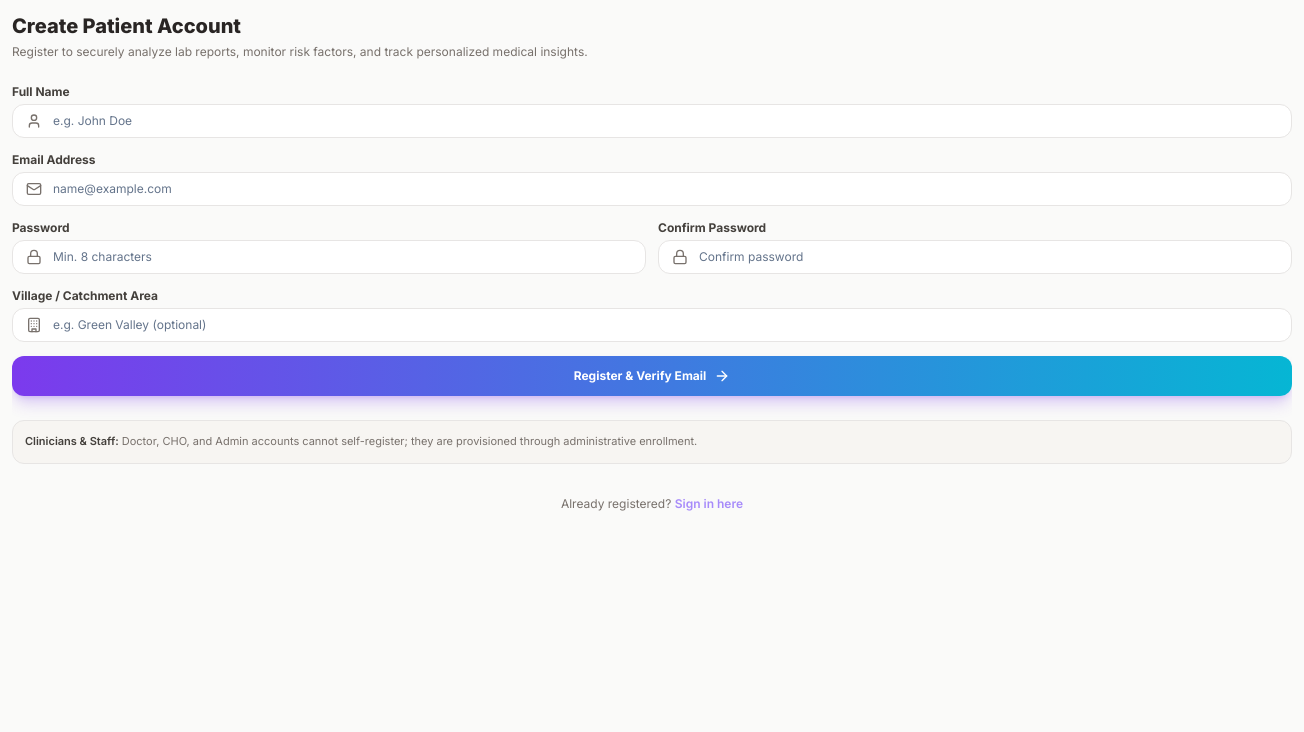
Test: Frontend Email Authentication & Password Recovery Suite › Register Component › validates password match and shows check inbox screen on successful registration
This screenshot has width=1304, height=732.
Type "Jane Doe" into the field with placeholder "e.g. John Doe". click: (652, 121)
box: x1=12 y1=104 x2=1292 y2=138
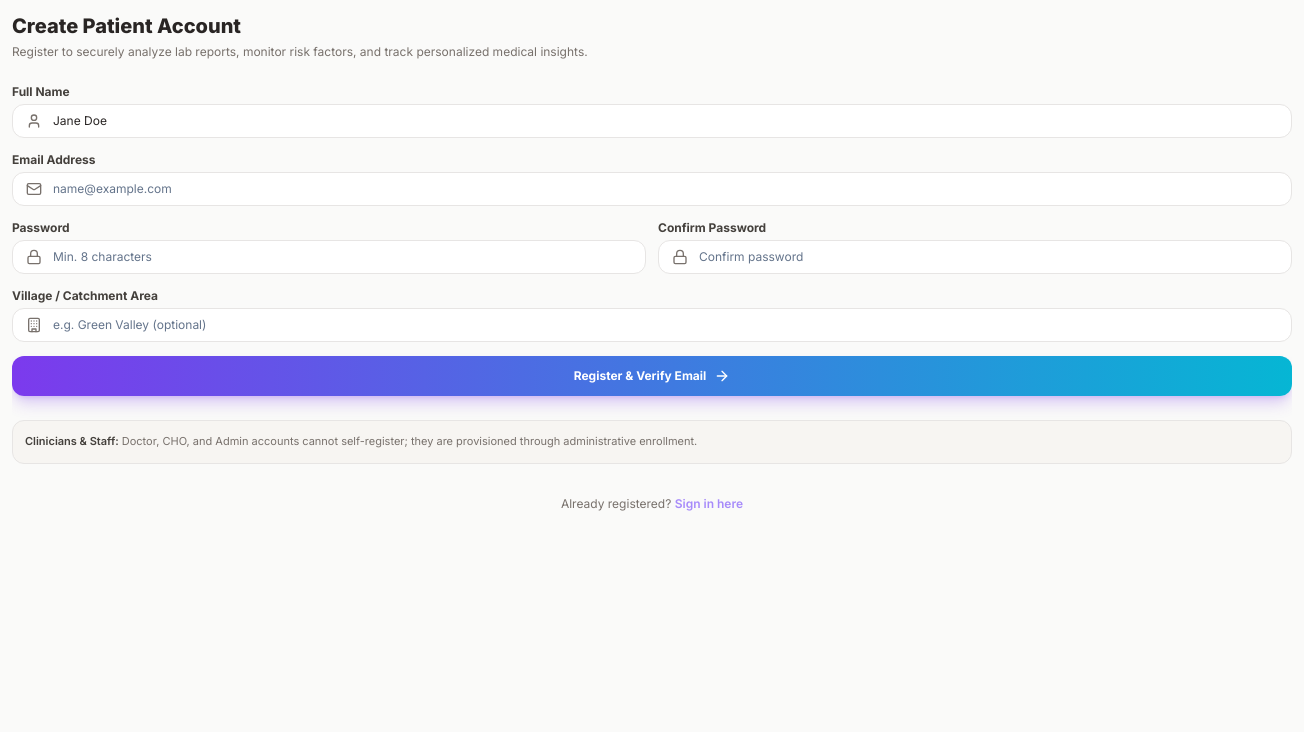
Type "jane@example.com" into the field with placeholder "name@example.com". click: (652, 189)
box: x1=12 y1=172 x2=1292 y2=206
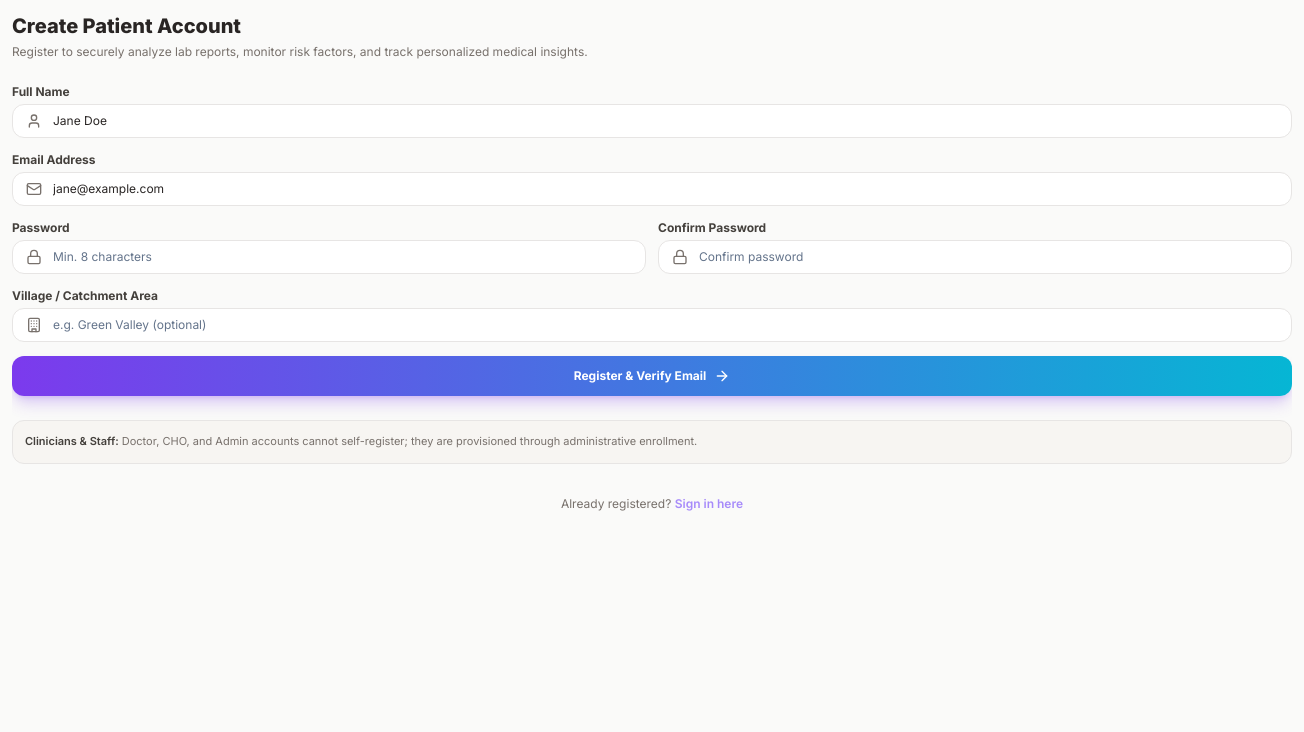
Type "Password123!" into the password field with placeholder "Min. 8 characters". click: (329, 257)
box: x1=12 y1=240 x2=646 y2=274
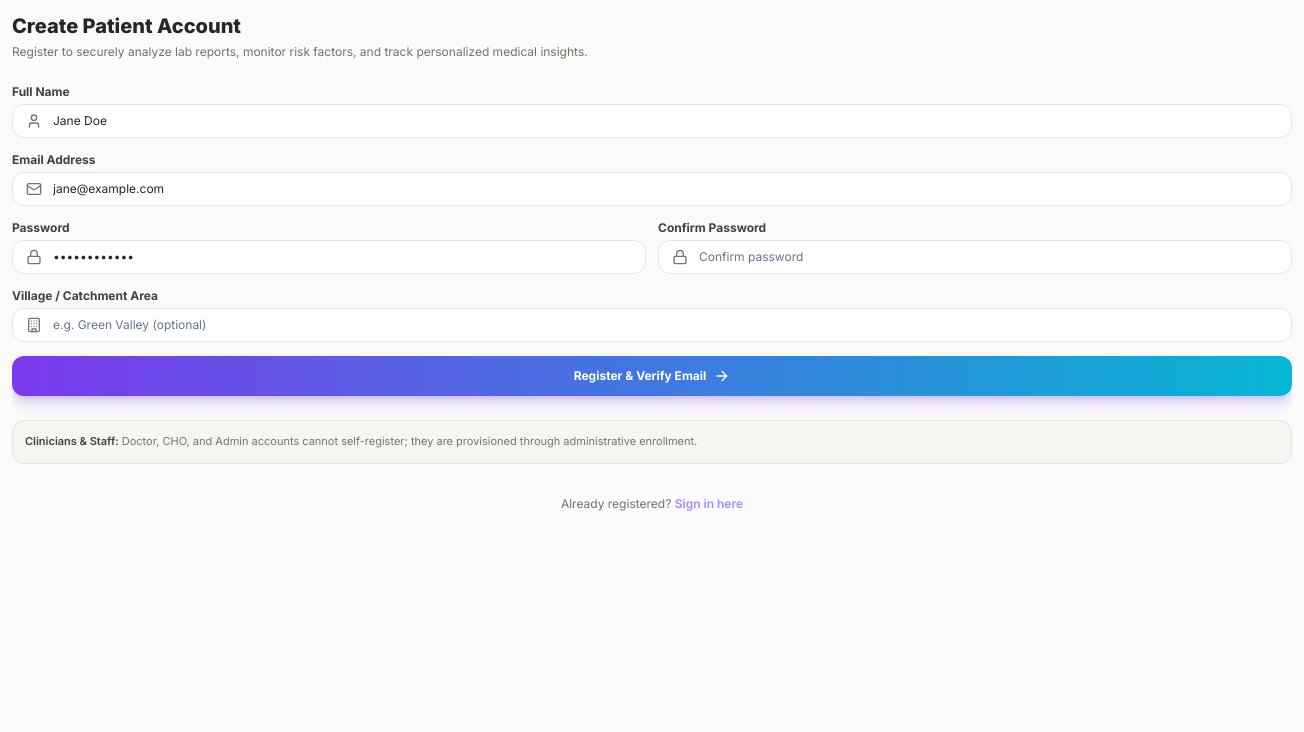
Type "Password123!" into the password field with placeholder "Confirm password". click: (975, 257)
box: x1=658 y1=240 x2=1292 y2=274
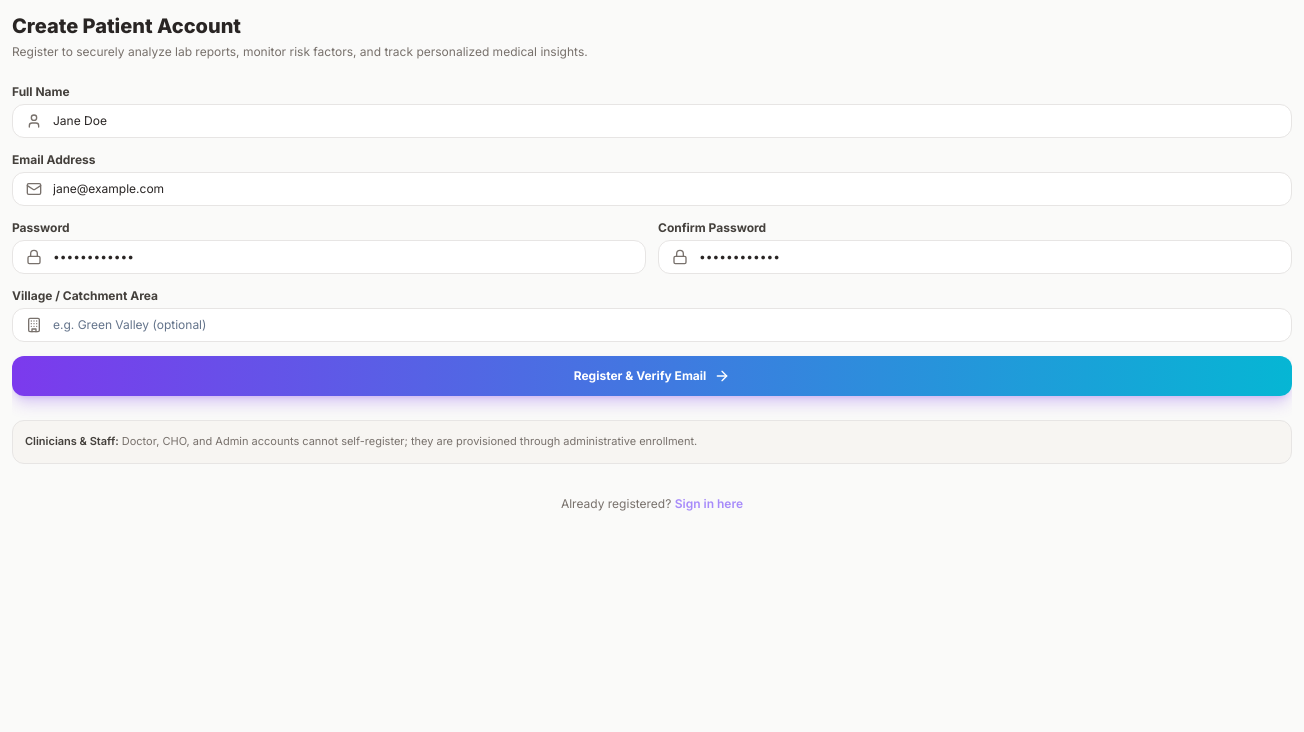
Click the button "Register & Verify Email". click: (652, 376)
box: x1=12 y1=356 x2=1292 y2=396
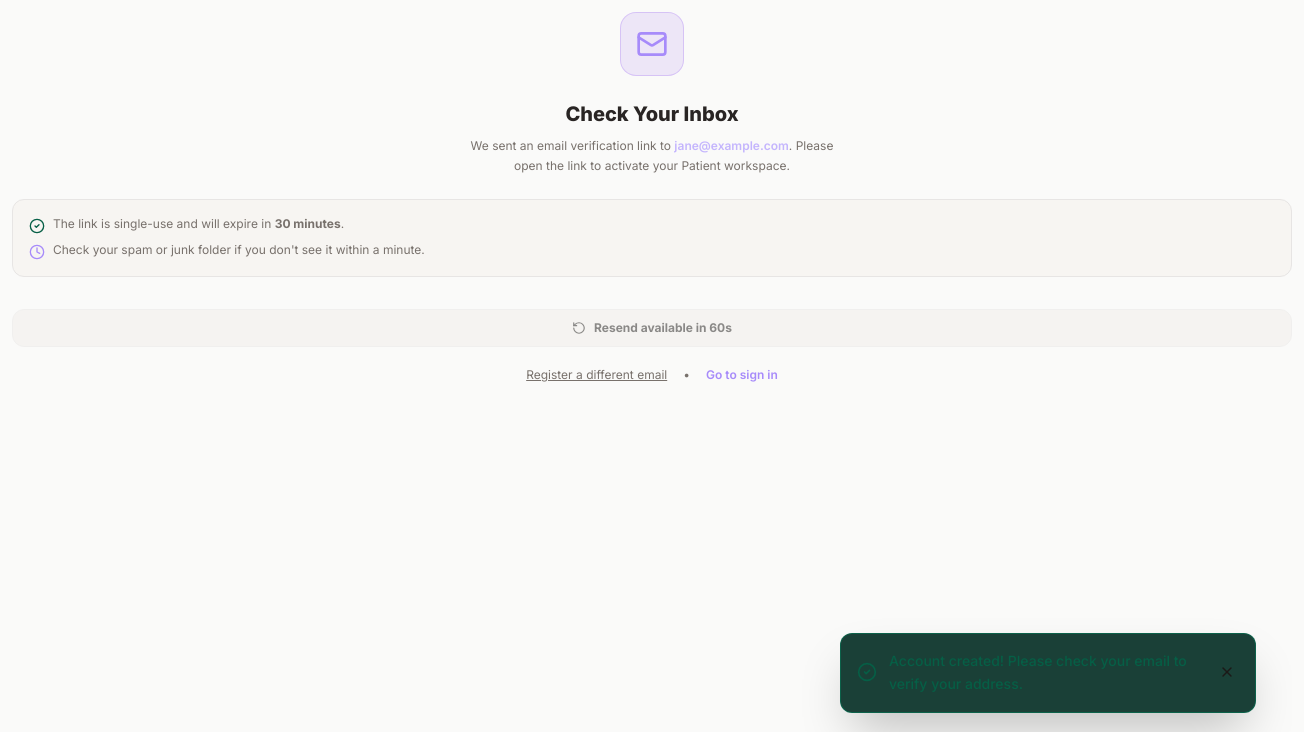
Now the heading "Check Your Inbox" is shown, box x1=565 y1=102 x2=739 y2=126
Now the text "jane@example.com" is shown, box x1=674 y1=138 x2=789 y2=153
Now the button "Resend available in 60s" is shown, box x1=12 y1=309 x2=1292 y2=347
